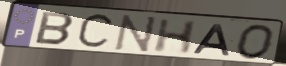A: (191, 23, 233, 58)
B: (33, 10, 76, 47)
C: (74, 12, 117, 51)
H: (151, 18, 200, 56)
N: (112, 14, 160, 56)
O: (235, 23, 277, 62)
